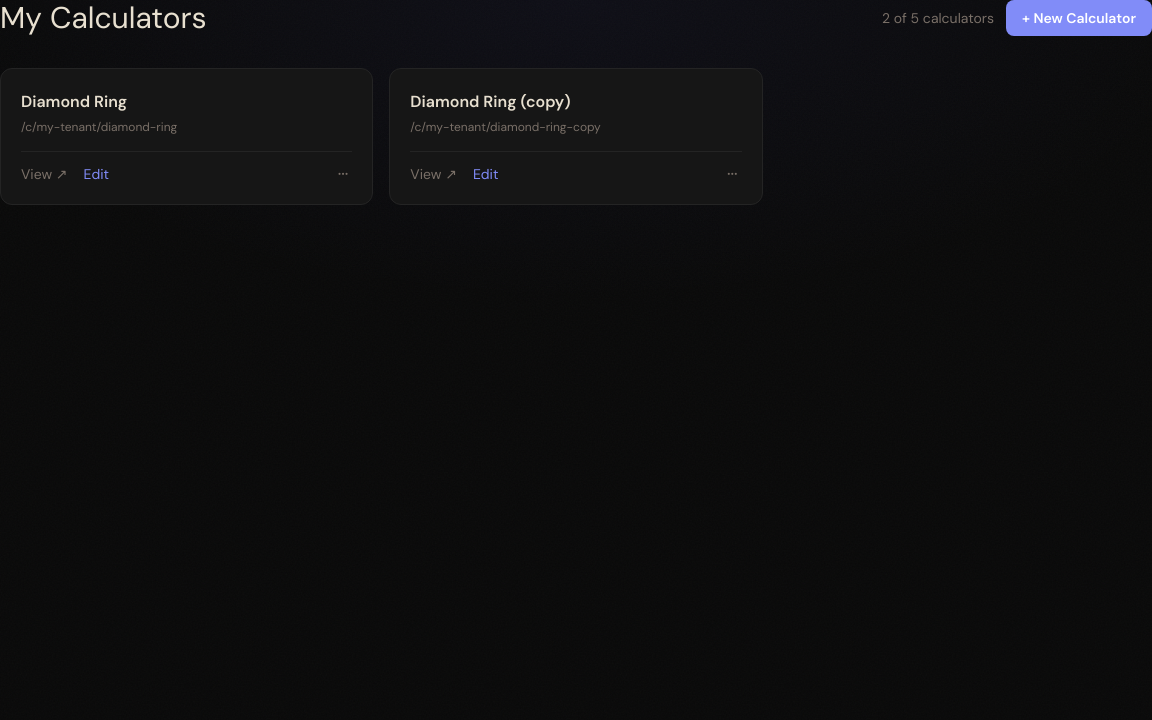
it: Dashboard › generates unique slug when -copy already exists
The width and height of the screenshot is (1152, 720).
Click the button named "more actions": {"x": 343, "y": 174} [334, 165, 352, 183]
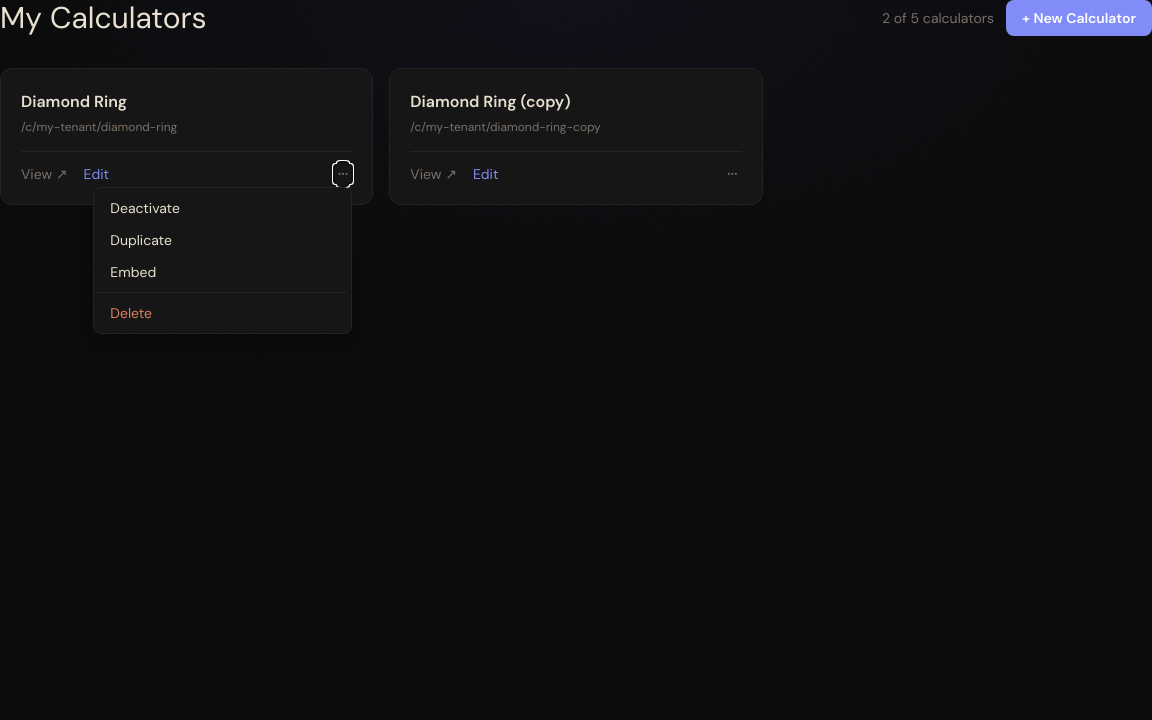
Click the button "Duplicate": {"x": 223, "y": 240} [98, 224, 347, 256]
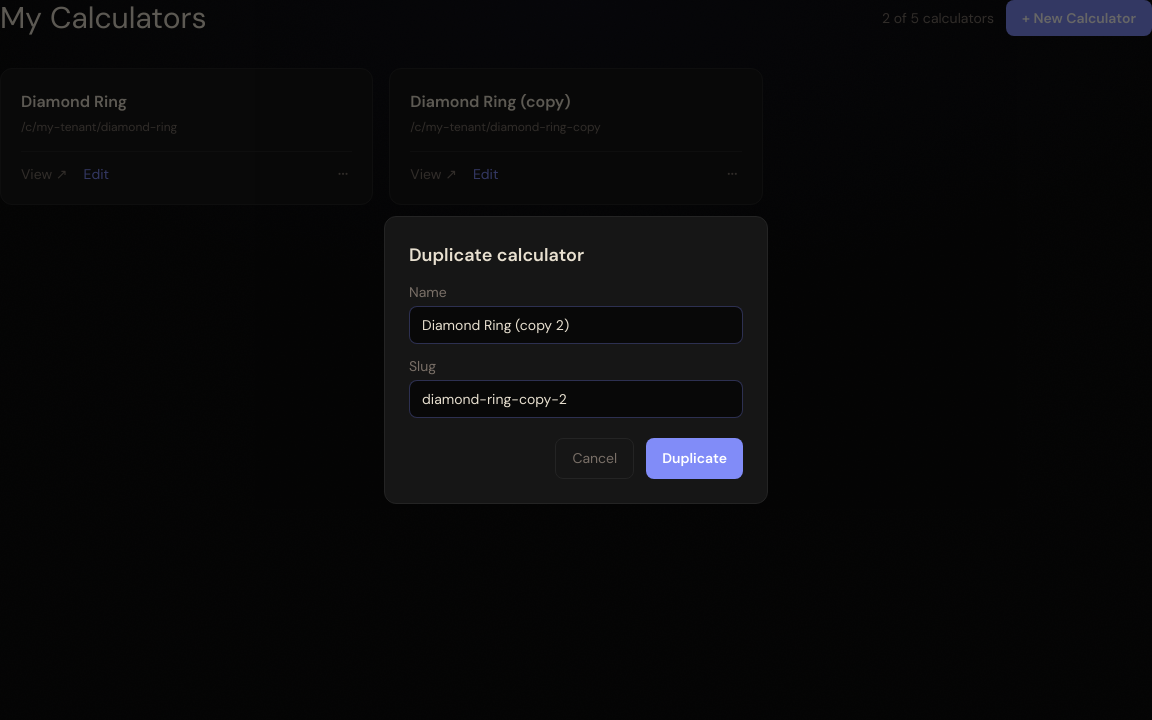
Expected: the field showing "diamond-ring-copy-2" is shown, [409, 380, 743, 418]
Expected: the field showing "Diamond Ring (copy 2)" is shown, [409, 306, 743, 344]
